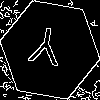Y: (25, 25, 65, 76)
